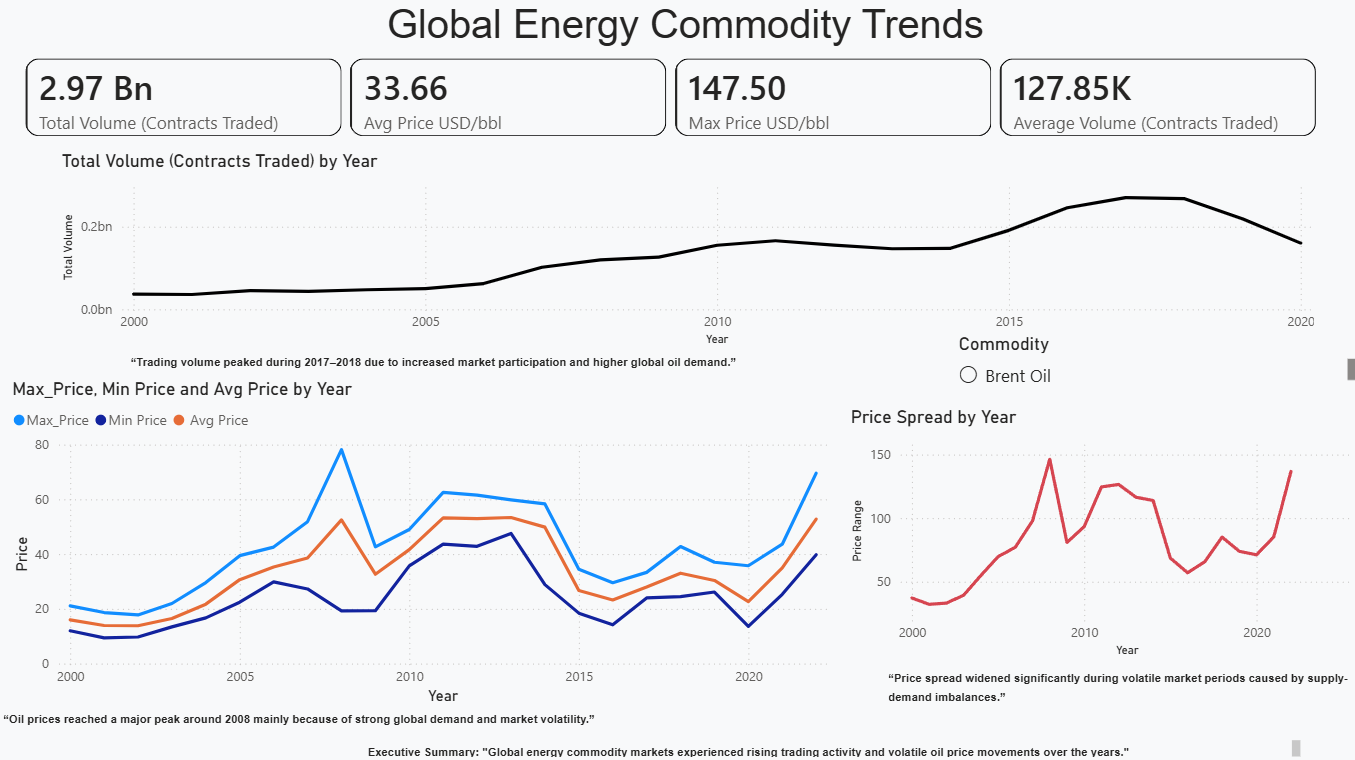

What the dashboard file says about the page in this screenshot:
{"tool":"powerbi","page":{"name":"Page 3","canvas":[1280,720],"ordinal":2},"visuals":[{"type":"textbox","box":[9.5,0,1271.1,70.9],"z":0},{"type":"lineChart","fields":{"Y":["Avg(energy commodity.Max_Price)","Avg(energy commodity.Min_Price)","Avg(energy commodity.Avg_Price)"],"Category":["energy commodity.Year"]},"box":[8.5,359.2,777.5,311.3],"z":1000},{"type":"lineChart","title":" Total Volume (Contracts Traded) by Year","fields":{"Y":["Sum(energy commodity.Total_Volume)"],"Category":["energy commodity.Year"]},"box":[54.9,145.1,1185.9,188.7],"z":2000},{"type":"cardVisual","fields":{"Data":["energy commodities.Total Volume","energy commodities.Avg Price USD/bbl1","energy commodities.Avg Price USD/bbl","energy commodities.Average Volume (Contracts Traded)"]},"box":[8.5,42.3,1249.3,107],"z":3000},{"type":"lineChart","title":"Price Spread by Year","fields":{"Category":["energy commodities.Year"],"Y":["energy commodities.Price RANGE"]},"box":[795.5,385.9,484.5,239.4],"z":4000},{"type":"listSlicer","fields":{"Values":["energy commodities.Commodity"]},"box":[897.2,316.9,383.1,62],"z":5000},{"type":"textbox","box":[119.7,328.2,629.6,32.4],"z":6000},{"type":"textbox","box":[0,663.4,598.6,31],"z":7000},{"type":"textbox","box":[831,625.4,449.3,52.1],"z":8000},{"type":"textbox","box":[342.3,694.4,885.9,25.4],"z":9000}]}

Visuals, with their boxes in screenshot pixels (x1, y1, x2, y2), scaled from the page's 1280x720 canvas onto the 1355x760 screenshot:
textbox: (10, 0, 1354, 75)
lineChart - Avg(energy commodity.Max_Price) x Avg(energy commodity.Min_Price): (9, 379, 832, 708)
" Total Volume (Contracts Traded) by Year" lineChart: (58, 153, 1314, 352)
cardVisual - energy commodities.Total Volume x energy commodities.Avg Price USD/bbl1: (9, 45, 1331, 158)
"Price Spread by Year" lineChart: (842, 407, 1354, 660)
listSlicer - energy commodities.Commodity: (950, 335, 1354, 400)
textbox: (127, 346, 793, 381)
textbox: (0, 700, 634, 733)
textbox: (880, 660, 1354, 715)
textbox: (362, 733, 1300, 759)
